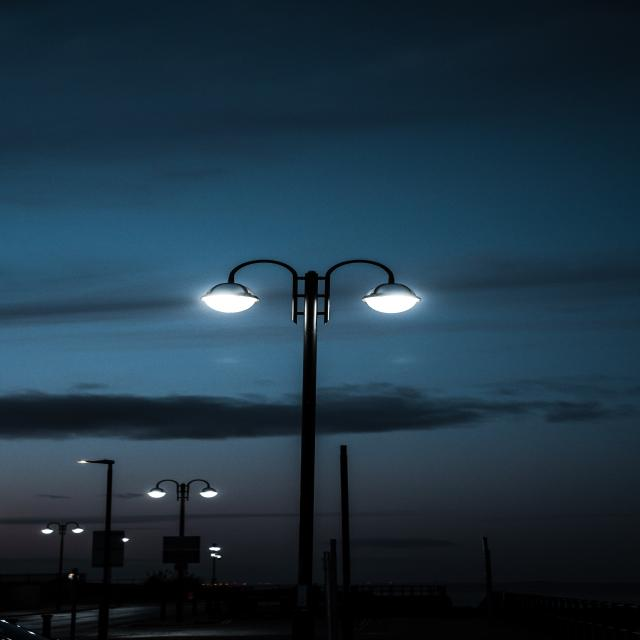Street Light: (198, 258, 423, 616), (147, 479, 218, 640), (76, 459, 116, 640), (41, 522, 84, 632)
